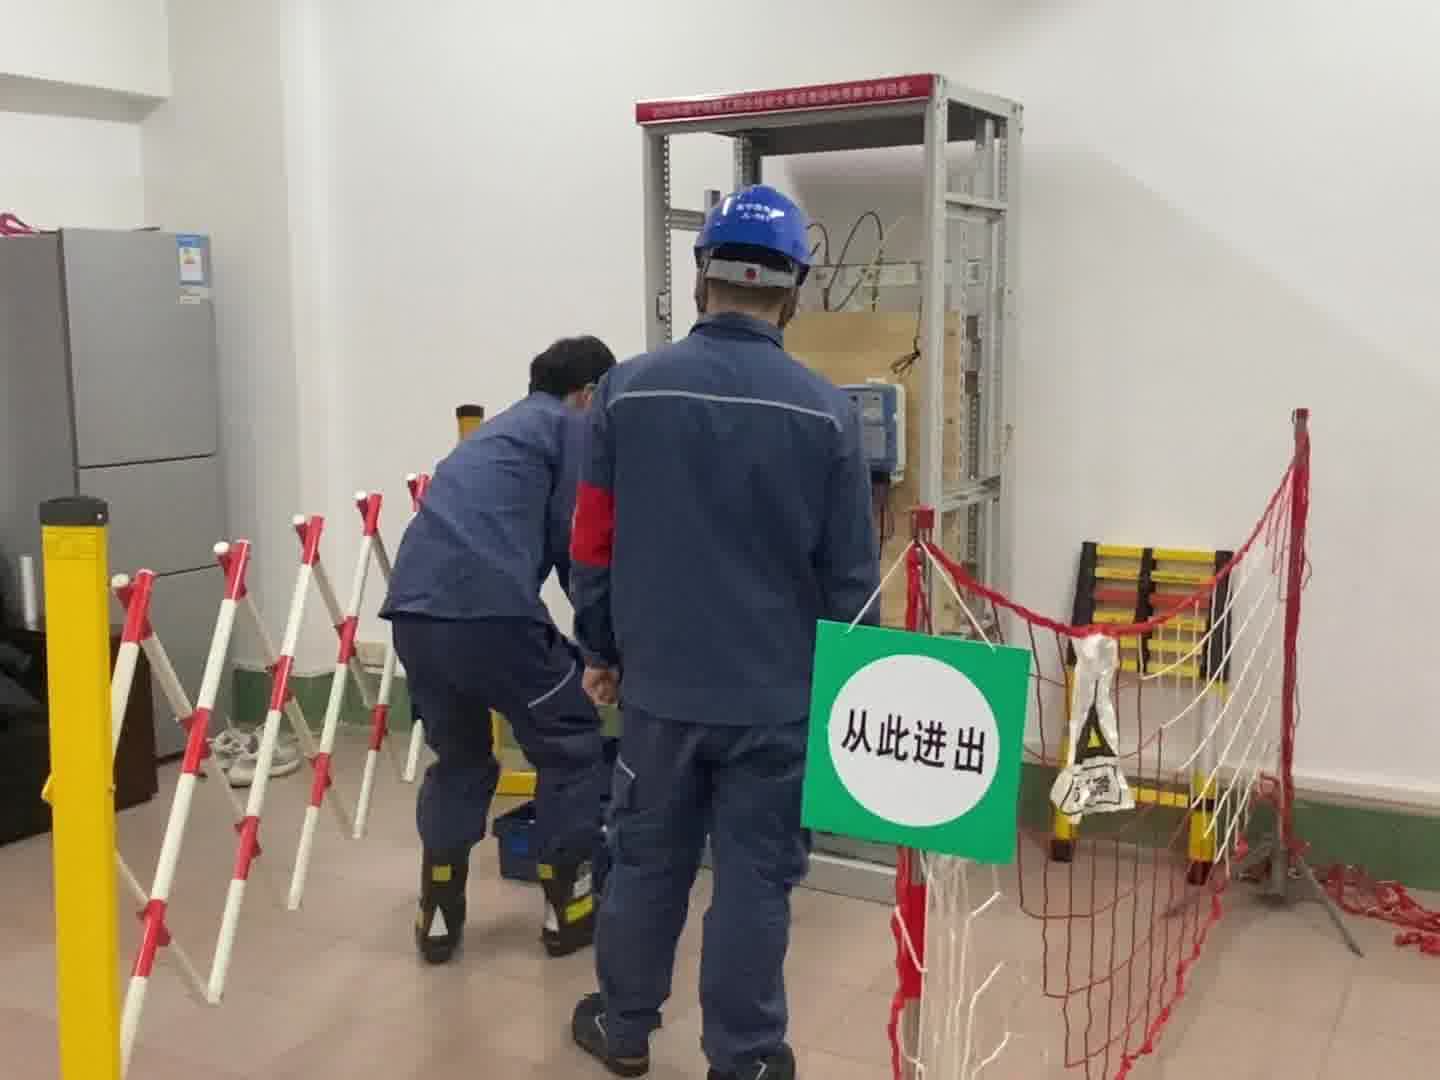badge: (566, 482, 619, 570)
downsuit: (589, 733, 813, 1075), (397, 632, 610, 856)
halt: (689, 183, 820, 328)
hand: (576, 665, 622, 709)
intosign: (794, 620, 1036, 866)
person: (561, 179, 885, 1080), (378, 333, 633, 964)
shoe: (537, 850, 602, 957), (415, 843, 469, 964)
unhalt: (528, 333, 615, 397)
upsuit: (571, 310, 876, 709), (389, 398, 571, 616)
